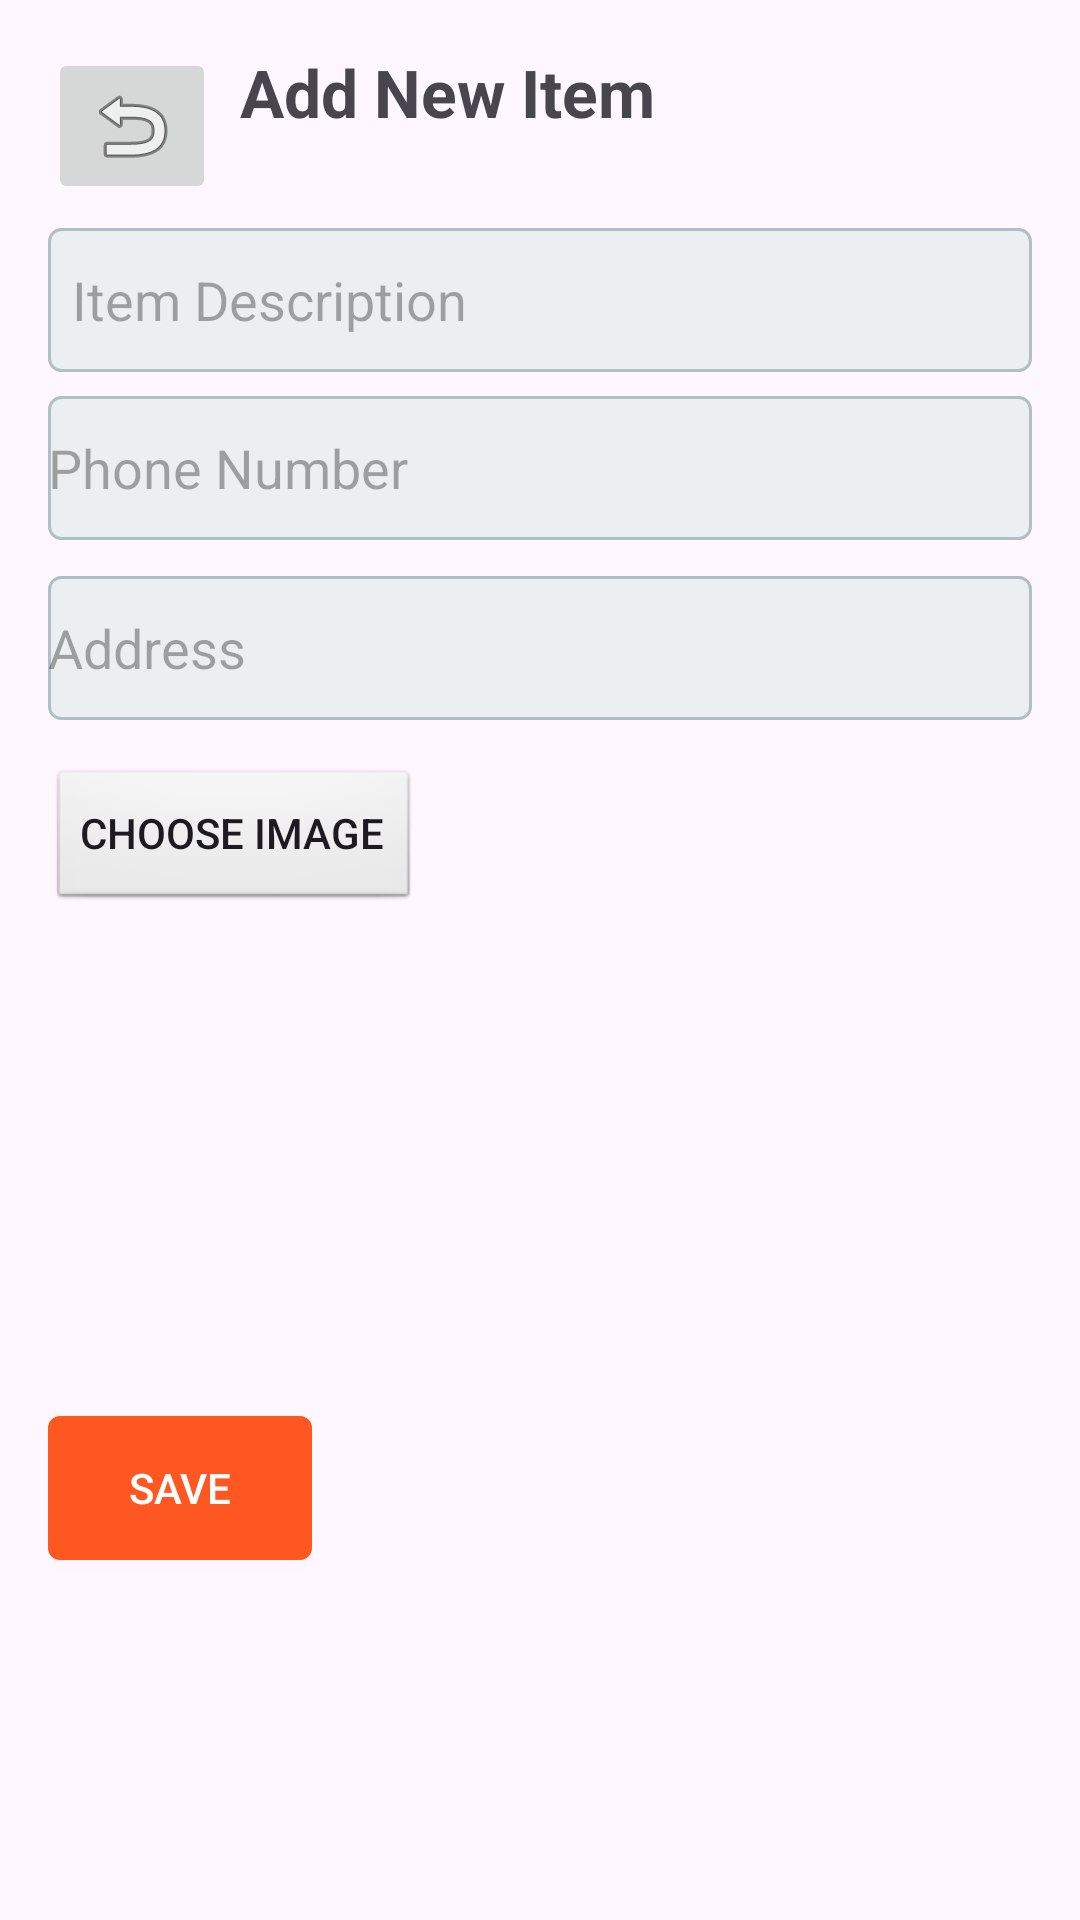

Icon click points for this 1080*1920 phone screenshot, format (x,y):
Go Back: (132,126)
